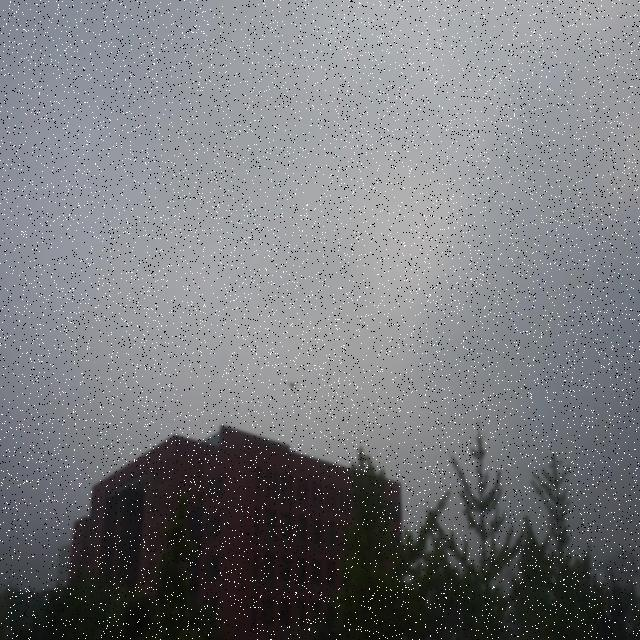UAV: (288, 382, 297, 390)
